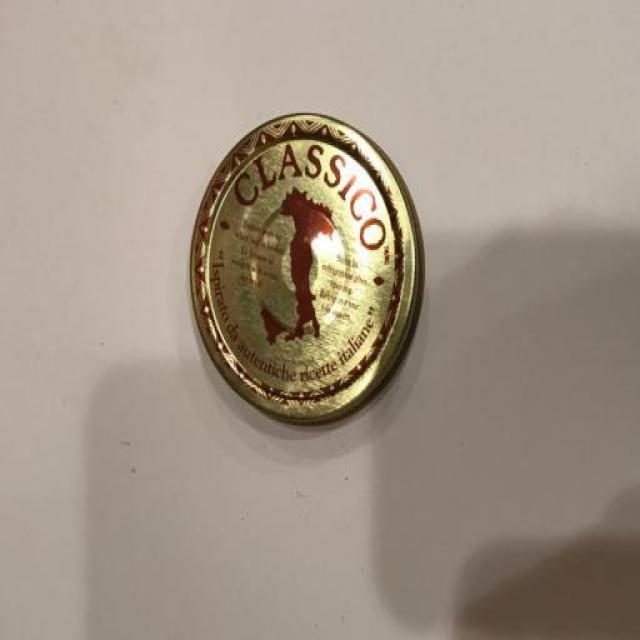metel: (197, 136, 421, 416)
